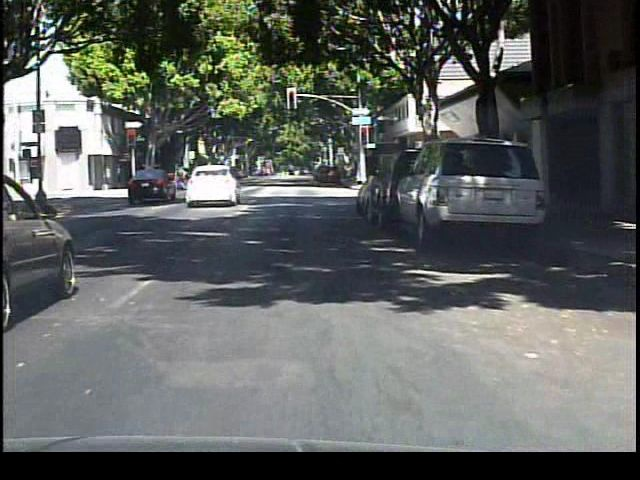person: (170, 162, 196, 200)
